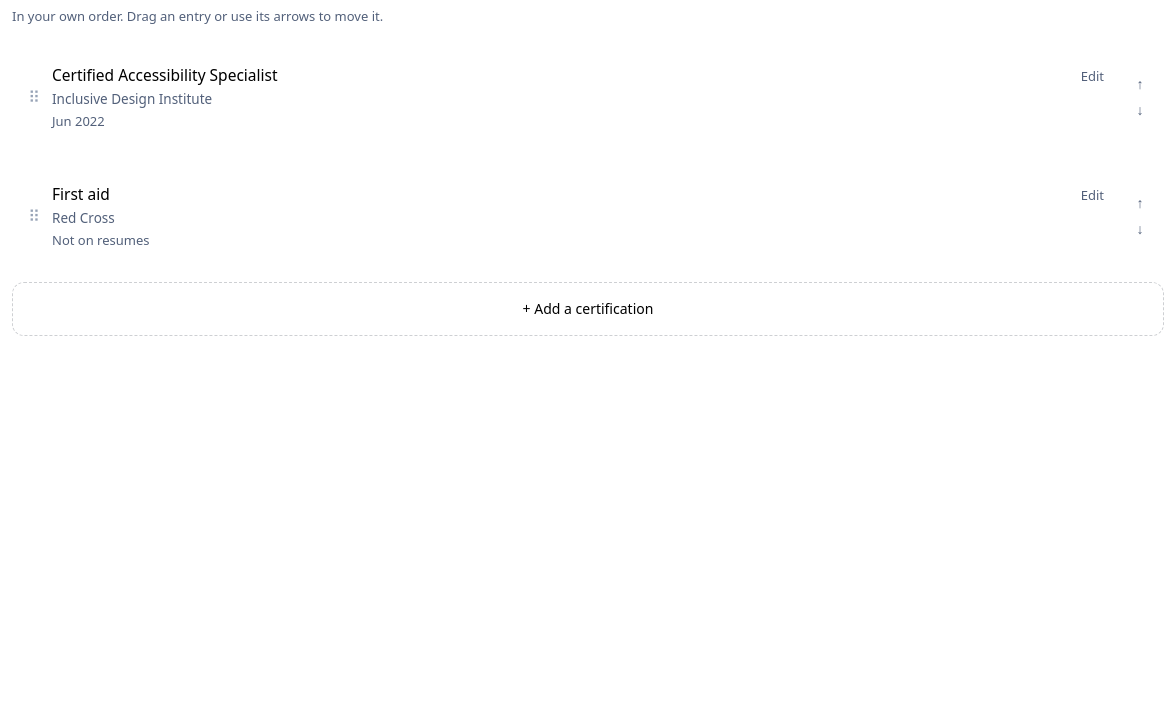
Test: CertificationsSection (#293) › edits a certification's fields and saves them
Later steps or results of the test are not shown.
Step 1. Click the button "First aid Red Cross Not on resumes Edit" → x=81, y=194, box left=40, top=163, right=1128, bottom=270
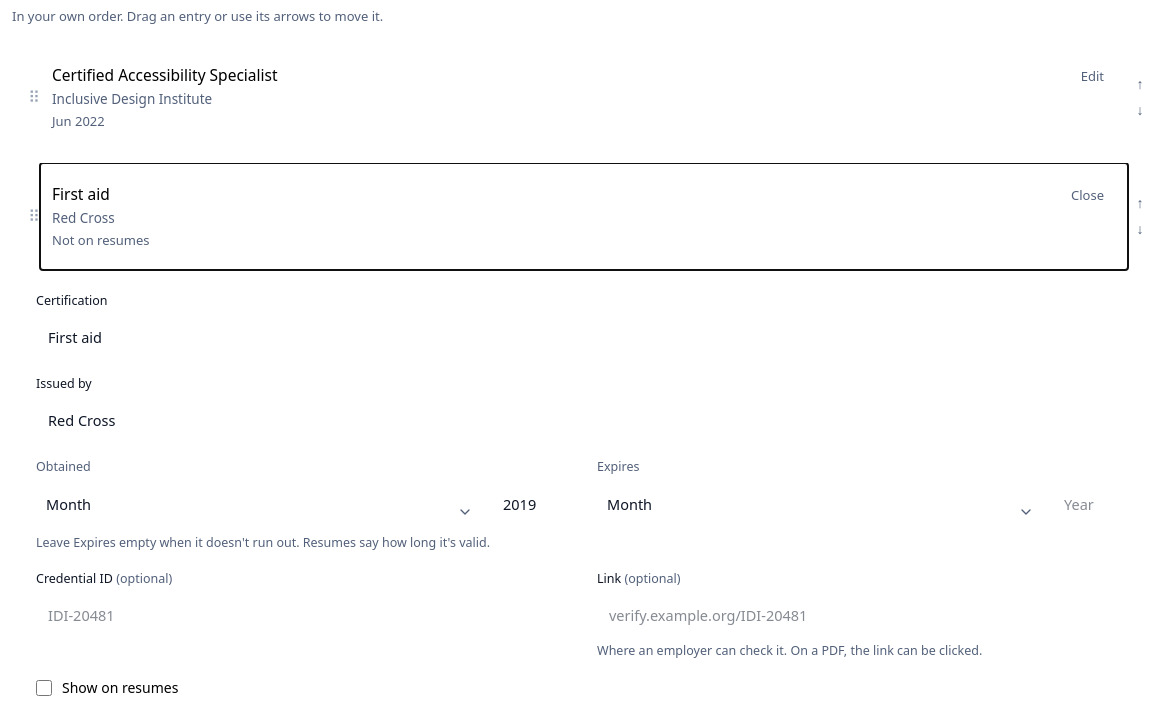
Check: the field labelled "Certification" holds "First aid", box left=36, top=317, right=1140, bottom=357
Check: the field labelled "Issued by" holds "Red Cross", box left=36, top=400, right=1140, bottom=440
